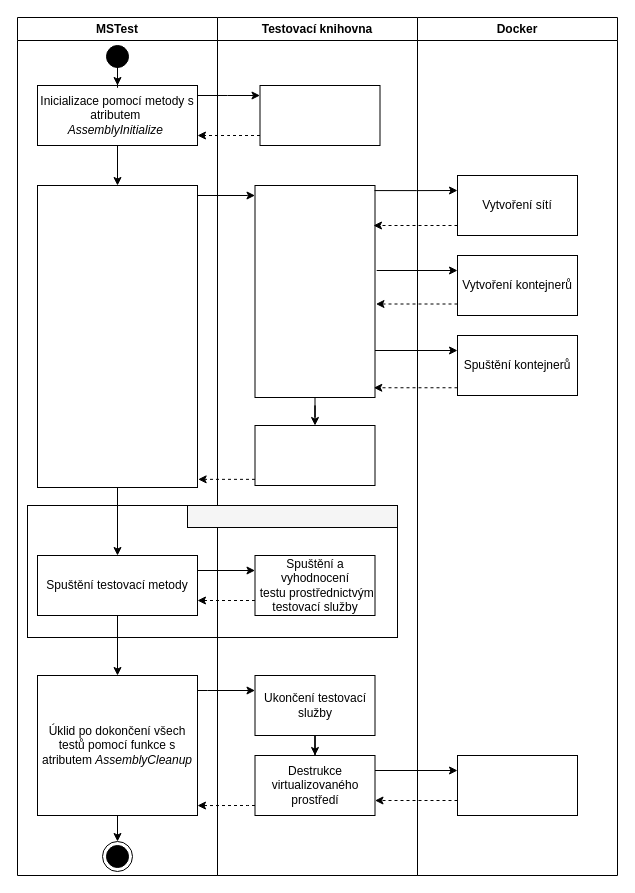
Image size: 635x893. Some labels were removed from this diagram. Each missing label, with the centre of its shape:
Destrukce vytvořených kontejnerů a sítí: the point at 517,785
Inicializace testovací knihovny: the point at 319,115
Inicializace testovací služby: the point at 314,455
Inicializace testovací třídy pomocí metody s atributem ClassInitialize: the point at 117,336
pro všechny testovací metody v třídě: the point at 292,516
Vytvoření virtualizovaného prostředí: the point at 314,291
